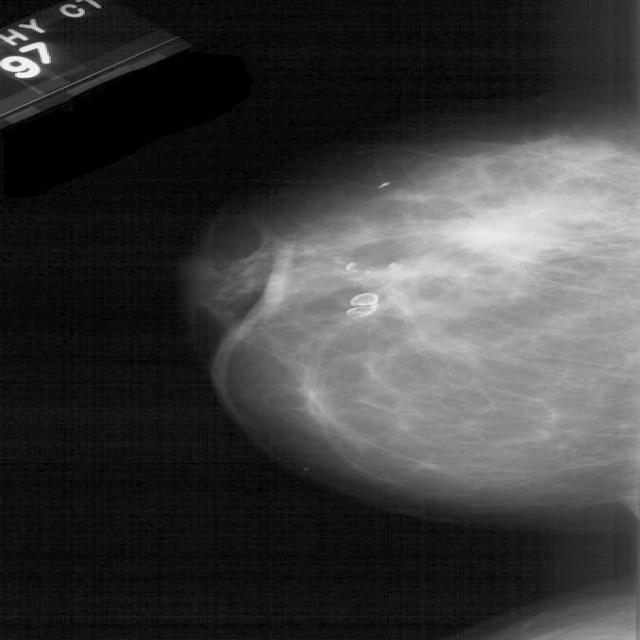tumour: (446, 196, 578, 255)
